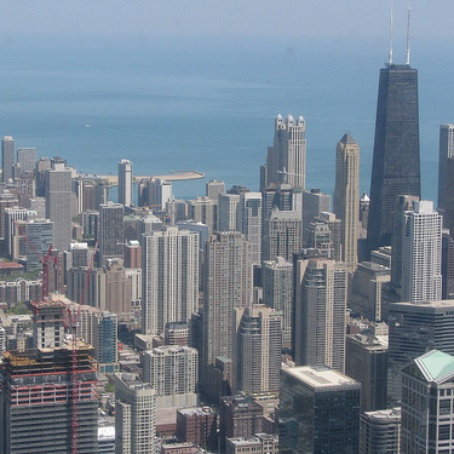building: (373, 50, 422, 250), (5, 346, 95, 454), (273, 365, 365, 454), (288, 255, 350, 371), (139, 229, 204, 336), (201, 232, 248, 374), (384, 299, 454, 394), (402, 352, 454, 454), (397, 201, 446, 301), (238, 294, 279, 395), (337, 133, 362, 265), (263, 115, 308, 186), (43, 164, 72, 258), (96, 263, 138, 320), (11, 215, 49, 278), (366, 401, 406, 454), (267, 210, 304, 265), (95, 203, 124, 265), (16, 148, 45, 186), (117, 151, 134, 211)
crane: (64, 268, 97, 345)
sea: (11, 40, 454, 170)
